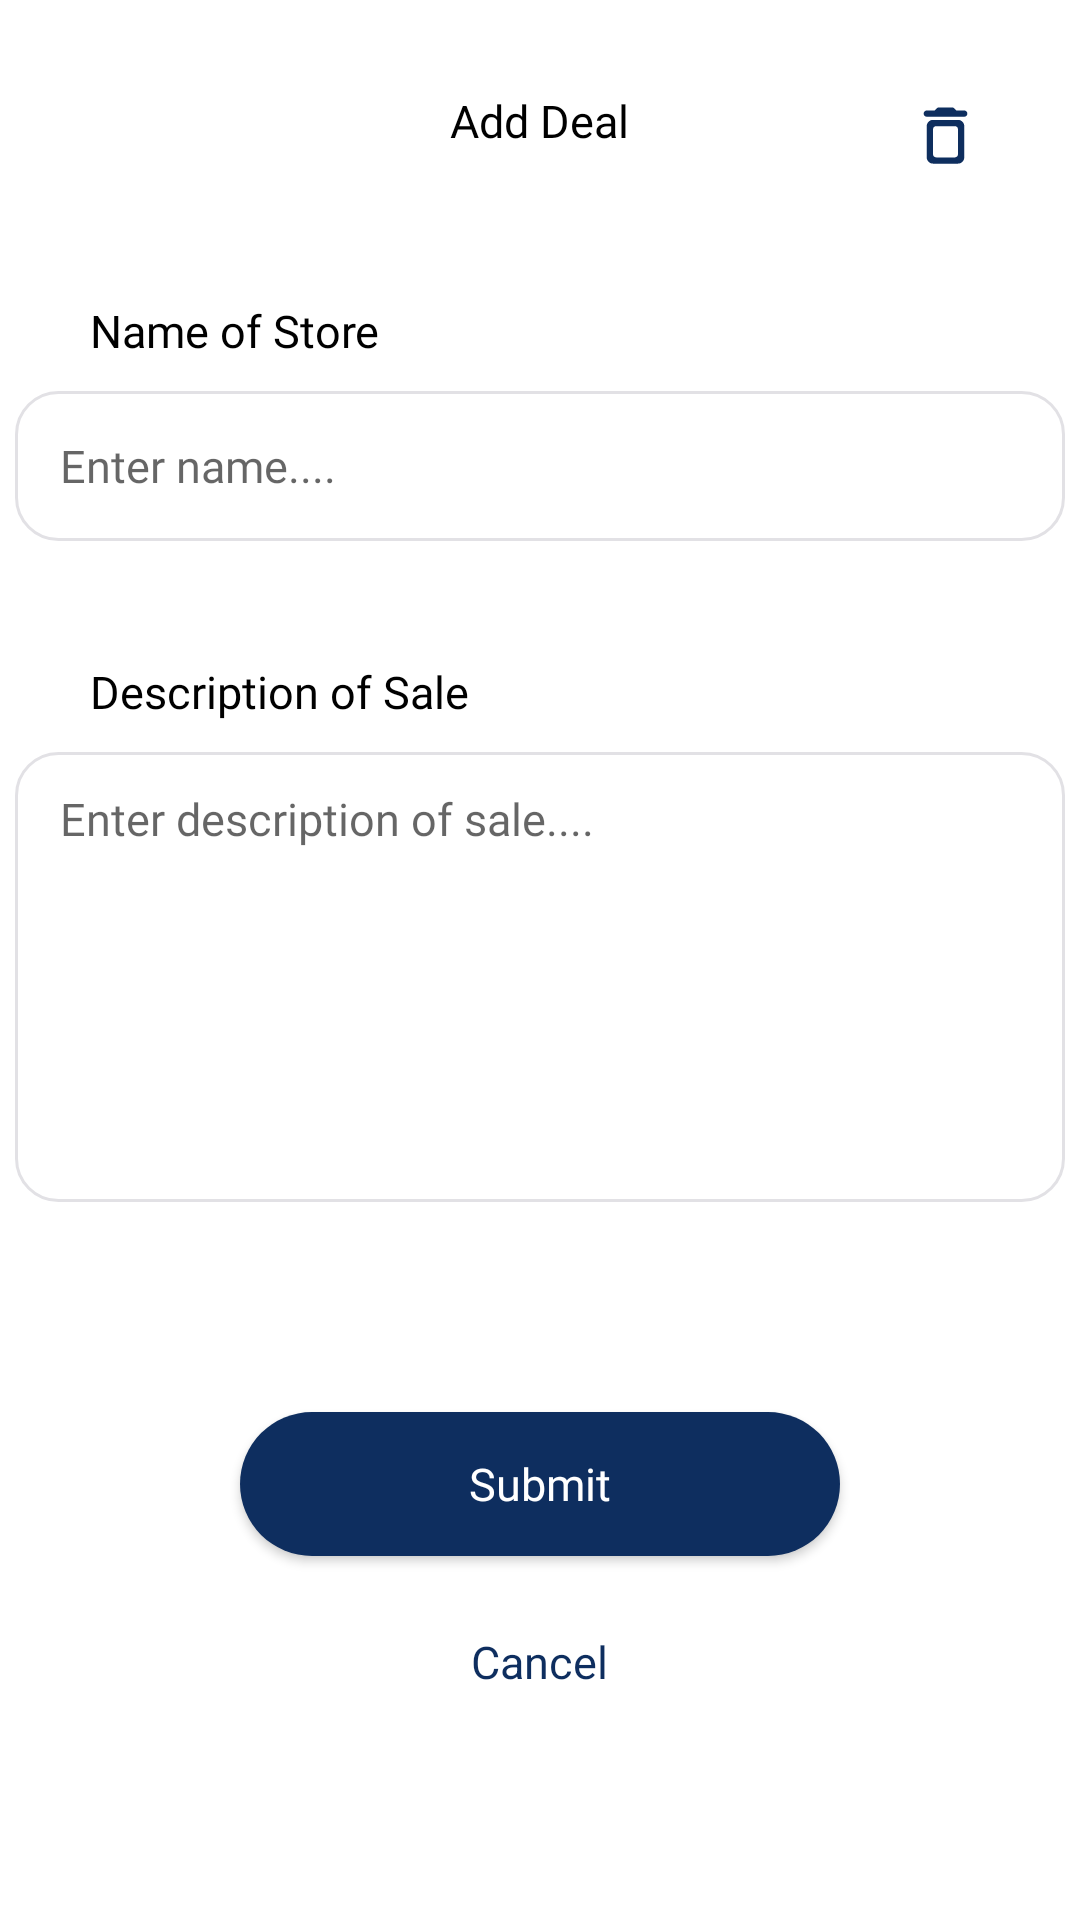

Locate icon controls on the screen. Image size 1080*1920, boxes as (x1, y1, x2, y2).
delete: (923, 107, 968, 164)
